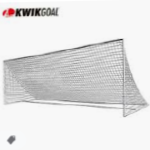goals: (2, 37, 150, 119)
